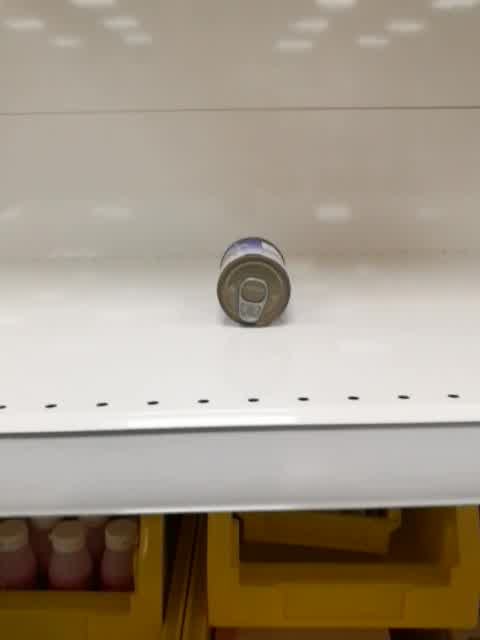sardine: (214, 237, 292, 328)
